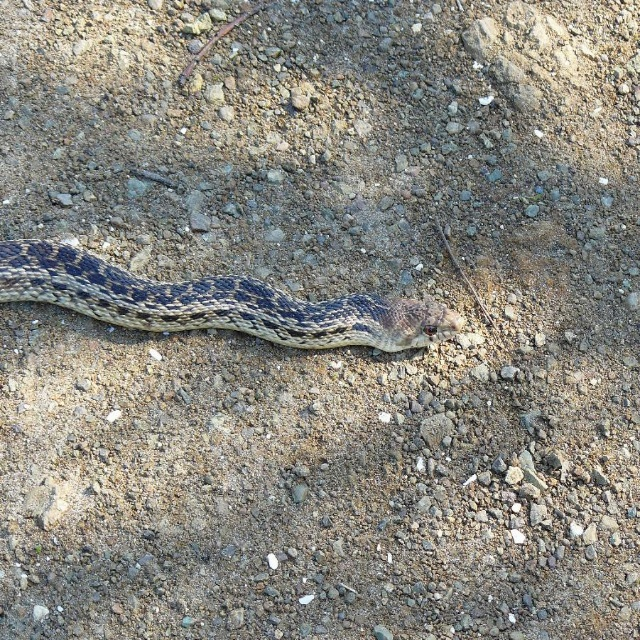Snake: (0, 238, 464, 356)
